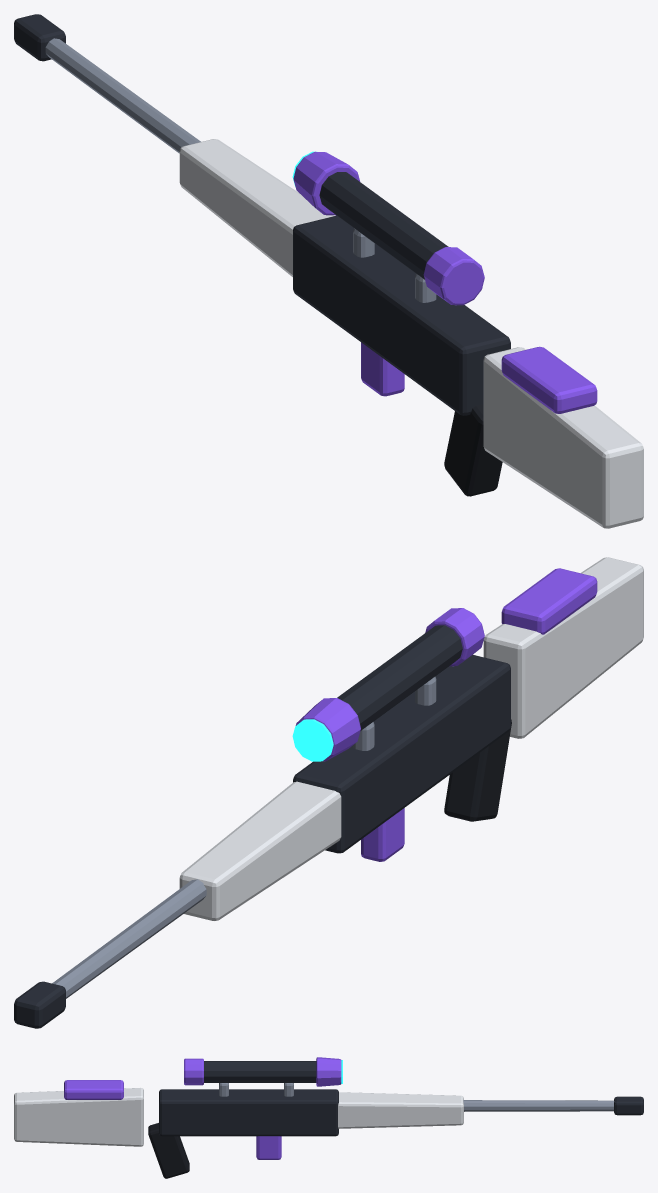
The model's file is sniper.glb.
The picture shows the model from 3 angles, top to bottom: view 1: azimuth 30°, elevation 25°; view 2: azimuth 150°, elevation 25°; view 3: azimuth 270°, elevation 25°; orthographic projection. The views are drawn at different scales.
Visible parts, largest first — view 1: receiver, stock, handguard, scope, cheek, barrel, grip, scopeBack, scopeFront, brake, mag; view 2: receiver, stock, handguard, scope, barrel, cheek, grip, scopeFront, brake, mag, scopeBack, lens; view 3: receiver, stock, handguard, scope, barrel, grip, cheek, scopeFront, mag, brake, scopeBack.
Part boxes in pixels (x1=…): receiver: x1=293, y1=215, x2=510, y2=415; stock: x1=483, y1=347, x2=643, y2=528; handguard: x1=179, y1=139, x2=333, y2=276; scope: x1=319, y1=172, x2=448, y2=279; cheek: x1=501, y1=346, x2=597, y2=413; barrel: x1=45, y1=38, x2=200, y2=153; grip: x1=444, y1=404, x2=502, y2=496; scopeBack: x1=423, y1=247, x2=484, y2=305; scopeFront: x1=293, y1=151, x2=360, y2=215; brake: x1=14, y1=14, x2=65, y2=61; mag: x1=361, y1=342, x2=404, y2=396; receiver: x1=293, y1=655, x2=510, y2=853; stock: x1=483, y1=557, x2=643, y2=738; handguard: x1=179, y1=781, x2=341, y2=920; scope: x1=337, y1=625, x2=462, y2=730; barrel: x1=52, y1=879, x2=206, y2=998; cheek: x1=501, y1=568, x2=597, y2=634; grip: x1=444, y1=719, x2=511, y2=821; scopeFront: x1=295, y1=698, x2=360, y2=761; brake: x1=14, y1=981, x2=65, y2=1028; mag: x1=361, y1=808, x2=404, y2=861; scopeBack: x1=425, y1=608, x2=484, y2=666; lens: x1=292, y1=719, x2=333, y2=761; receiver: x1=159, y1=1089, x2=338, y2=1136; stock: x1=14, y1=1088, x2=143, y2=1146; handguard: x1=338, y1=1092, x2=463, y2=1128; scope: x1=204, y1=1061, x2=316, y2=1082; barrel: x1=463, y1=1100, x2=614, y2=1111; grip: x1=148, y1=1123, x2=189, y2=1178; cheek: x1=64, y1=1080, x2=123, y2=1099; scopeFront: x1=316, y1=1057, x2=341, y2=1086; mag: x1=256, y1=1136, x2=281, y2=1159; brake: x1=614, y1=1096, x2=643, y2=1115; scopeBack: x1=184, y1=1058, x2=203, y2=1085.
Size of the model in its own units: 0.062 by 0.2587 by 1.26.
